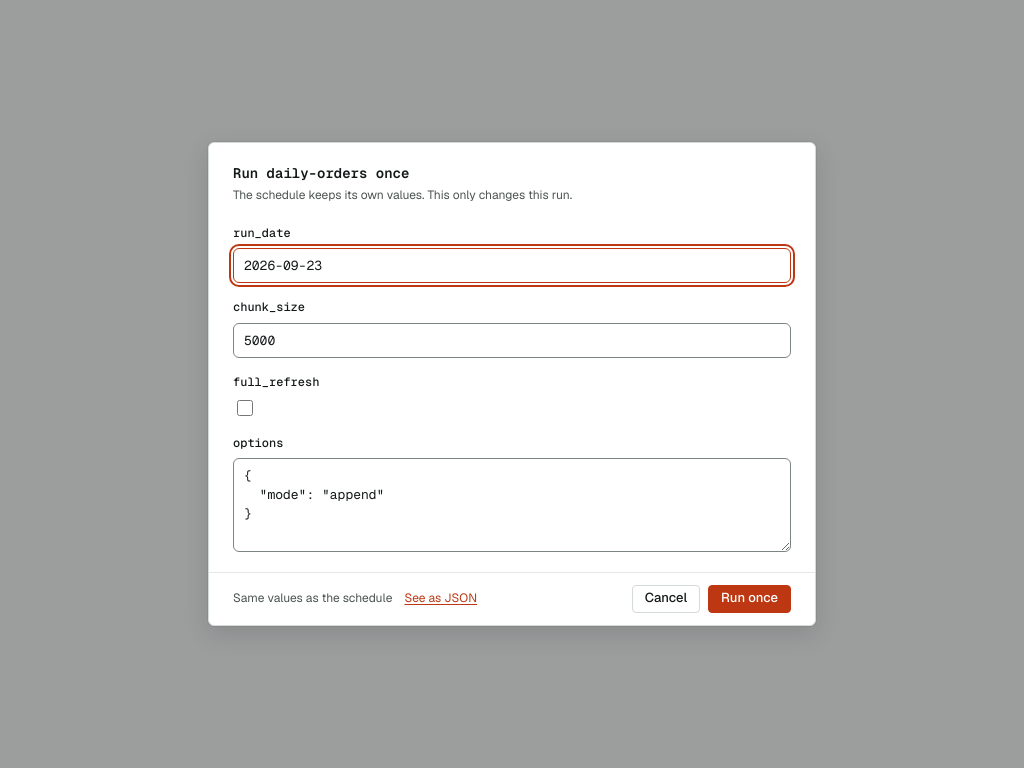
RunDialog › marks a changed value with the schedule's own, counts the differences, and resets it
Replace the text in the field labelled "run_date" with "2026-09-01": (512, 266) [233,248,791,283]
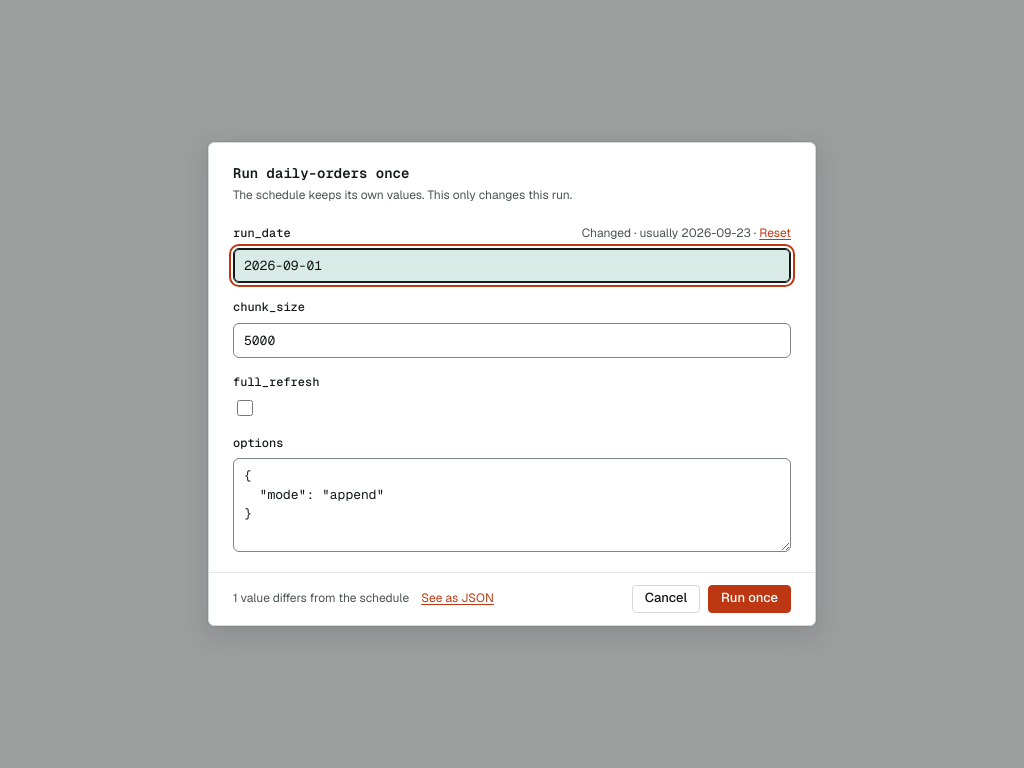
Click the checkbox labelled "full_refresh": (245, 408) [237,400,253,416]
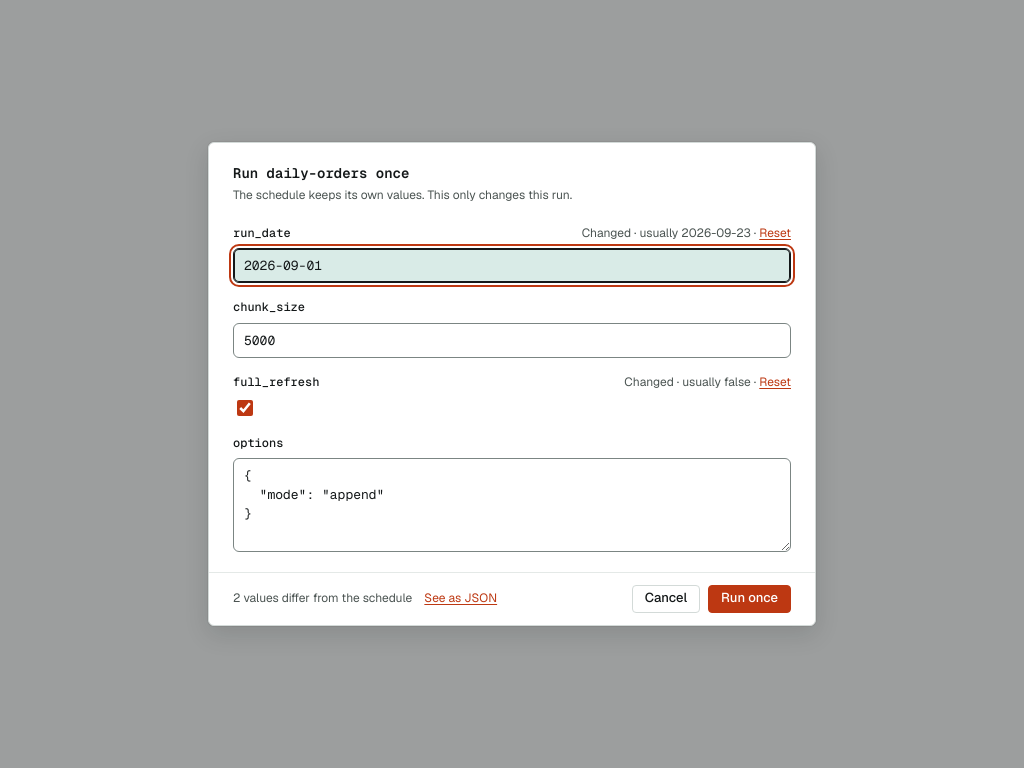
Expected: the element showing "Changed · usually 2026-09-23 · Reset" is shown, [582,225,791,242]
Expected: the text "2 values differ from the schedule" is shown, [233,590,412,608]
Click the button with aria-label "Reset run_date to the schedule's value": (775, 234) [759,225,791,242]
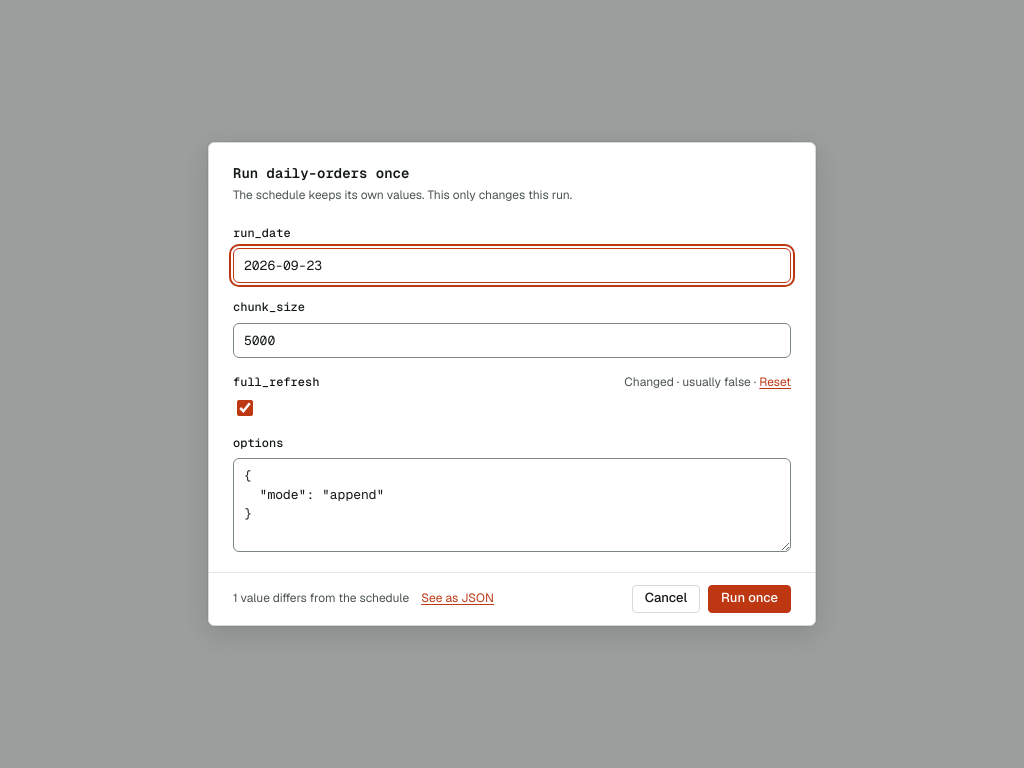
Expected: the field labelled "run_date" holds "2026-09-23", [233,248,791,283]
Expected: the text "1 value differs from the schedule" is shown, [233,590,409,608]
